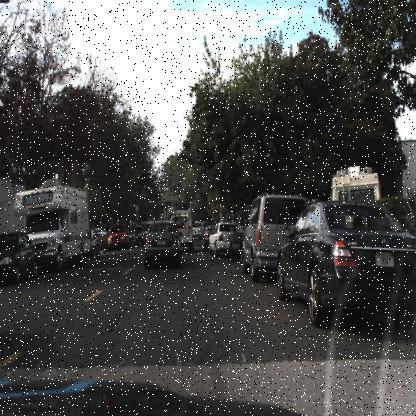car: (276, 196, 414, 336), (11, 185, 94, 264), (242, 191, 310, 285), (328, 165, 384, 209), (0, 228, 40, 284), (140, 218, 183, 270), (166, 202, 193, 255), (205, 219, 239, 258), (228, 204, 245, 263), (104, 220, 128, 250), (200, 221, 214, 253)
truck: (17, 188, 90, 259), (329, 166, 376, 206), (161, 206, 193, 253)
